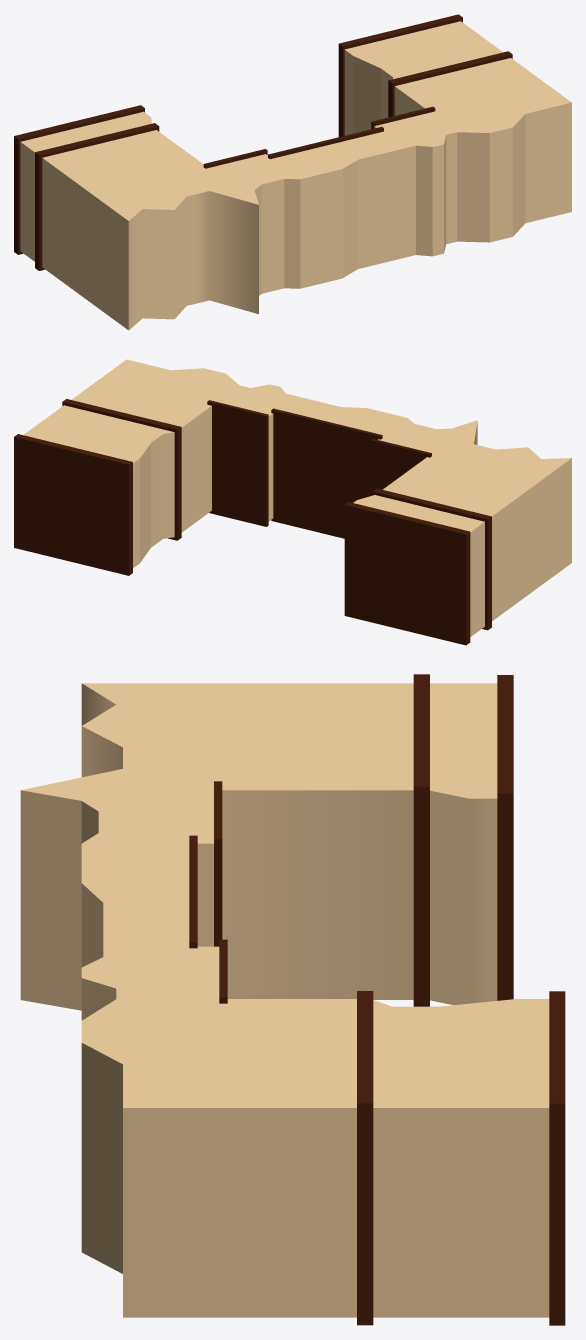
The model's file is map1Test.FBX.
3 views of the same model, one above another, from view 1: azimuth 30°, elevation 25°; view 2: azimuth 150°, elevation 25°; view 3: azimuth 270°, elevation 25° (orthographic). The views are drawn at different scales.
Visible parts, largest first — view 1: Box001; view 2: Box001; view 3: Box001.
Part boxes in pixels (x1=…): Box001: x1=14, y1=14, x2=571, y2=330; Box001: x1=14, y1=359, x2=571, y2=645; Box001: x1=20, y1=674, x2=565, y2=1325.
Bounding box in the file's own units: 191 × 45.96 × 102.
